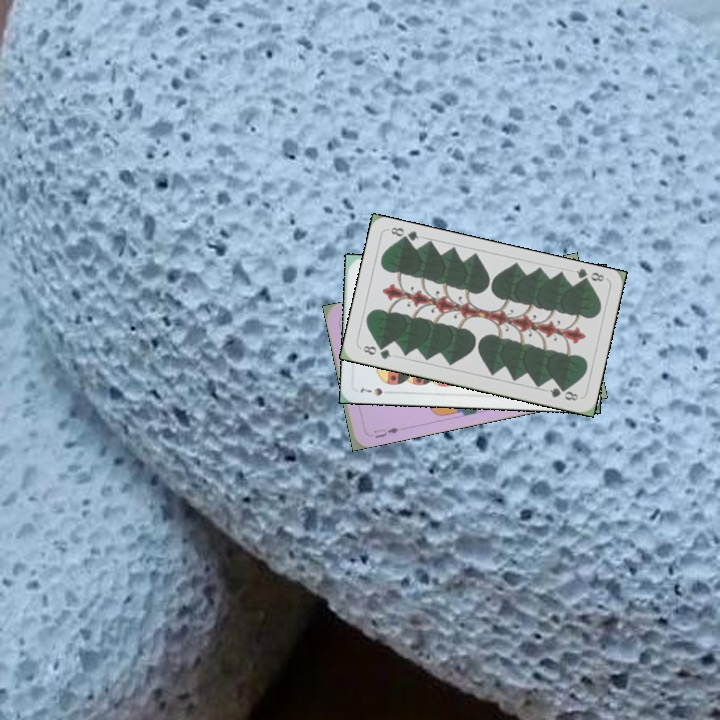EU: (370, 423, 405, 441)
G8: (572, 265, 607, 287), (359, 341, 394, 362)
S7: (356, 384, 395, 398)
